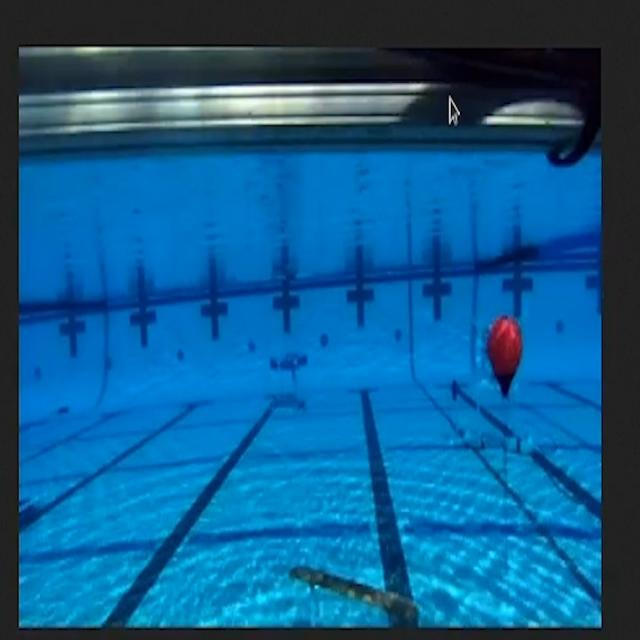Buoy: (487, 314, 525, 397)
